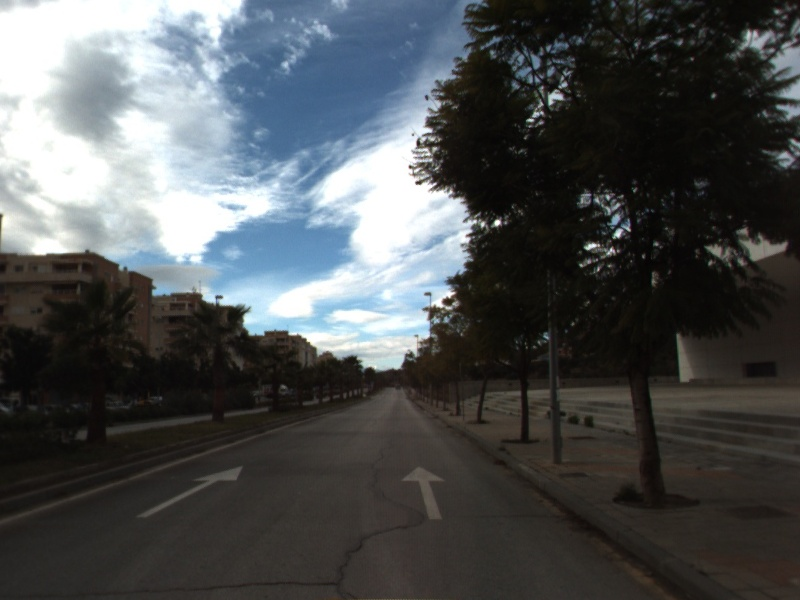STRAIGHT: (134, 464, 245, 519), (399, 464, 448, 521)
